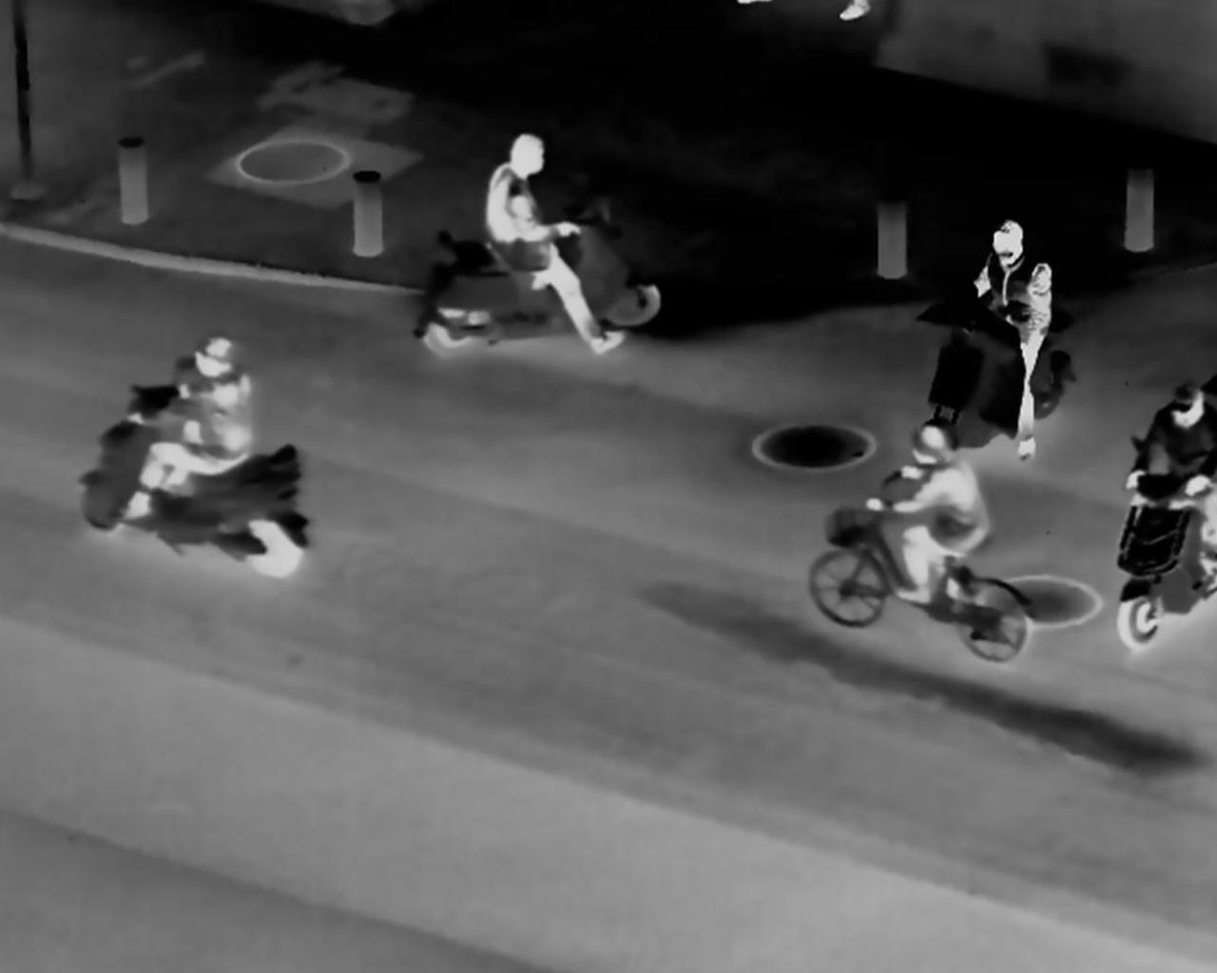person: (106, 327, 261, 539), (479, 132, 619, 358), (964, 207, 1062, 462), (865, 420, 990, 608), (1133, 365, 1217, 523)
